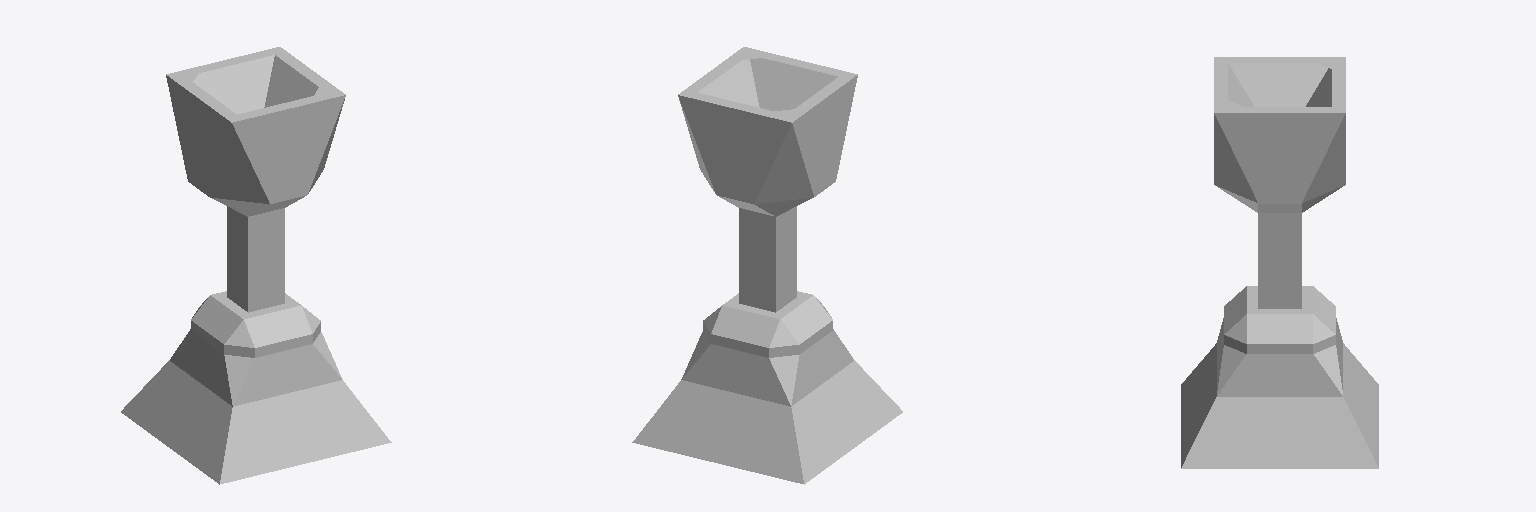
The model's file is test_collectable.obj.
The picture shows the model from 3 angles: view 1: azimuth 30°, elevation 25°; view 2: azimuth 150°, elevation 25°; view 3: azimuth 270°, elevation 25°; orthographic projection.
Parts seen in each view (by area): view 1: Cube; view 2: Cube; view 3: Cube.
Boxes of the visible parts, x1=… form: Cube: x1=121, y1=47, x2=391, y2=484; Cube: x1=632, y1=47, x2=902, y2=484; Cube: x1=1181, y1=57, x2=1378, y2=468.
Size of the model in its own units: 0.2427 by 0.4618 by 0.2427.